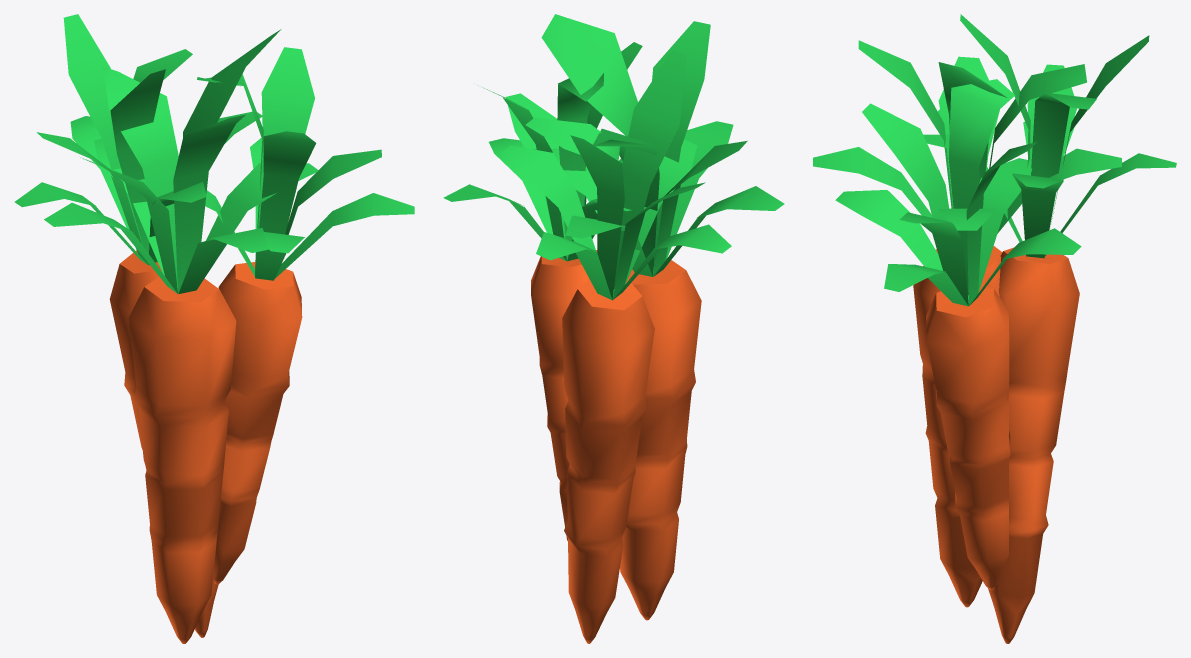
File: Carrot.glb
3 renders of one model, left to right at view 1: azimuth 30°, elevation 25°; view 2: azimuth 150°, elevation 25°; view 3: azimuth 270°, elevation 25°, orthographic.
Visible parts, largest first — view 1: CarrotBunch; view 2: CarrotBunch; view 3: CarrotBunch.
Boxes of the visible parts, x1,y1,x2,y2 form: CarrotBunch: [14, 14, 414, 643]; CarrotBunch: [443, 14, 784, 643]; CarrotBunch: [813, 14, 1176, 643].
Size of the model in its own units: 2.28 by 4.01 by 2.19.
